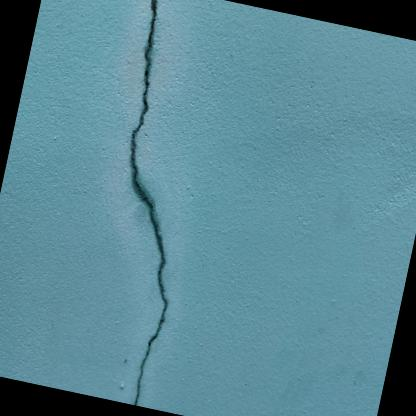crack: (128, 0, 168, 405)
